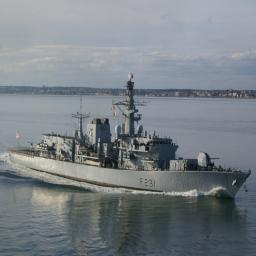Fragata: (4, 70, 254, 203)
